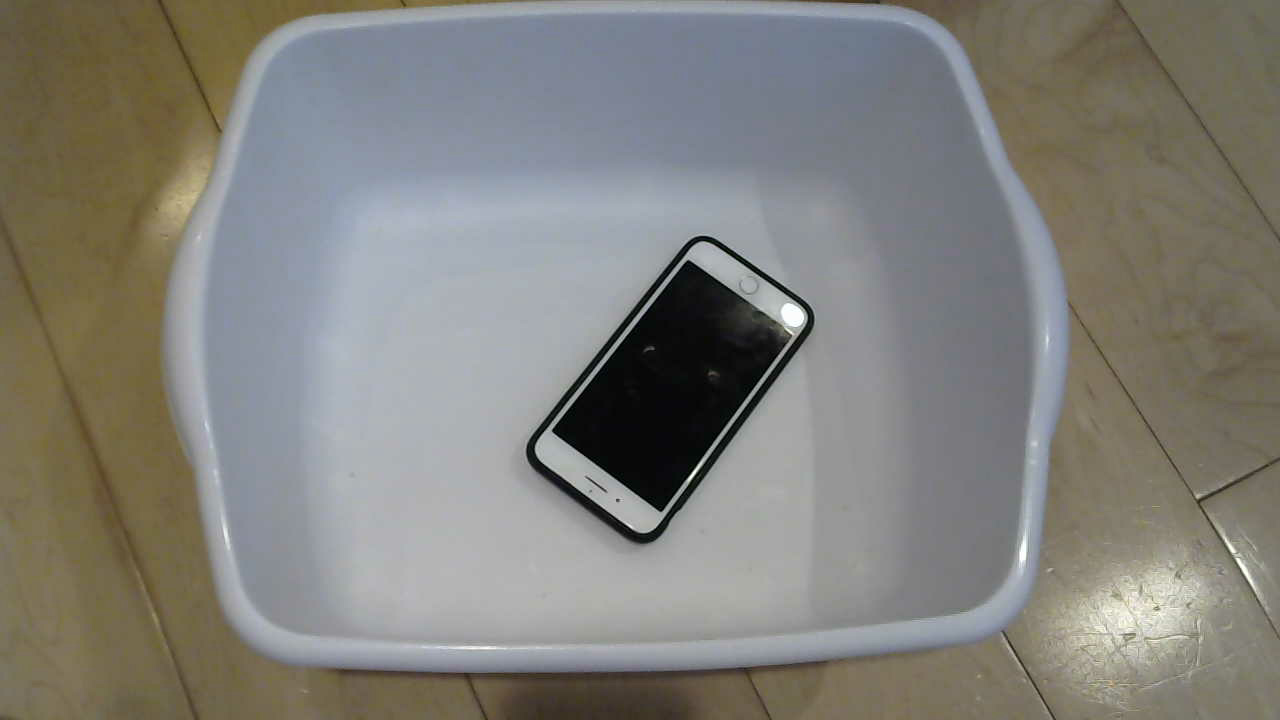phone: (512, 230, 829, 562)
